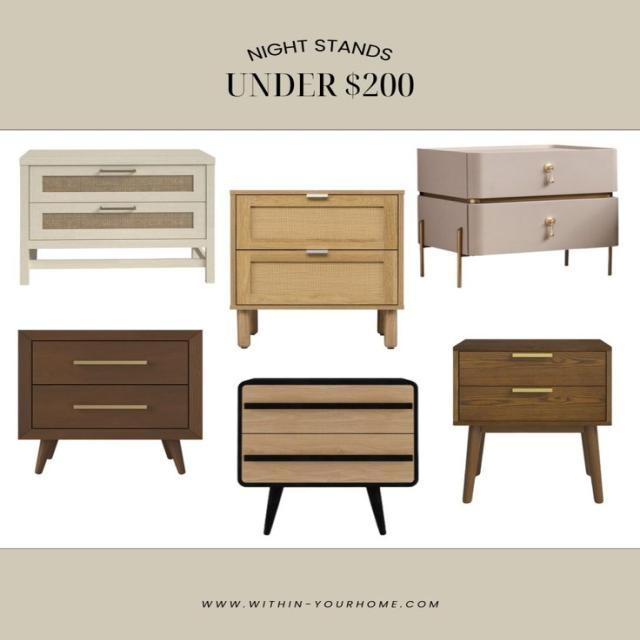obstacle: (416, 144, 620, 288), (236, 377, 418, 536), (228, 188, 406, 350), (16, 329, 202, 475), (18, 148, 216, 285), (451, 338, 612, 504)
